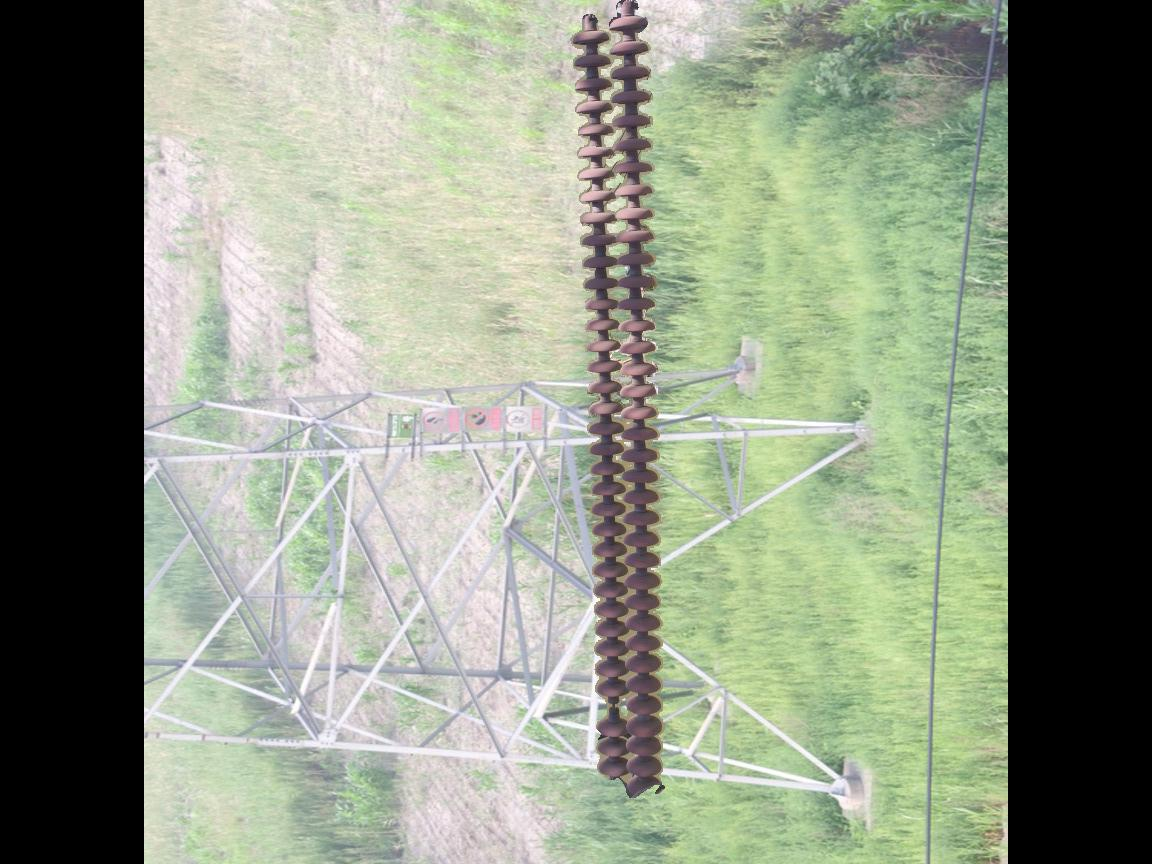insulator: (566, 5, 670, 796)
insulator_stringdrop: (592, 674, 633, 739)
